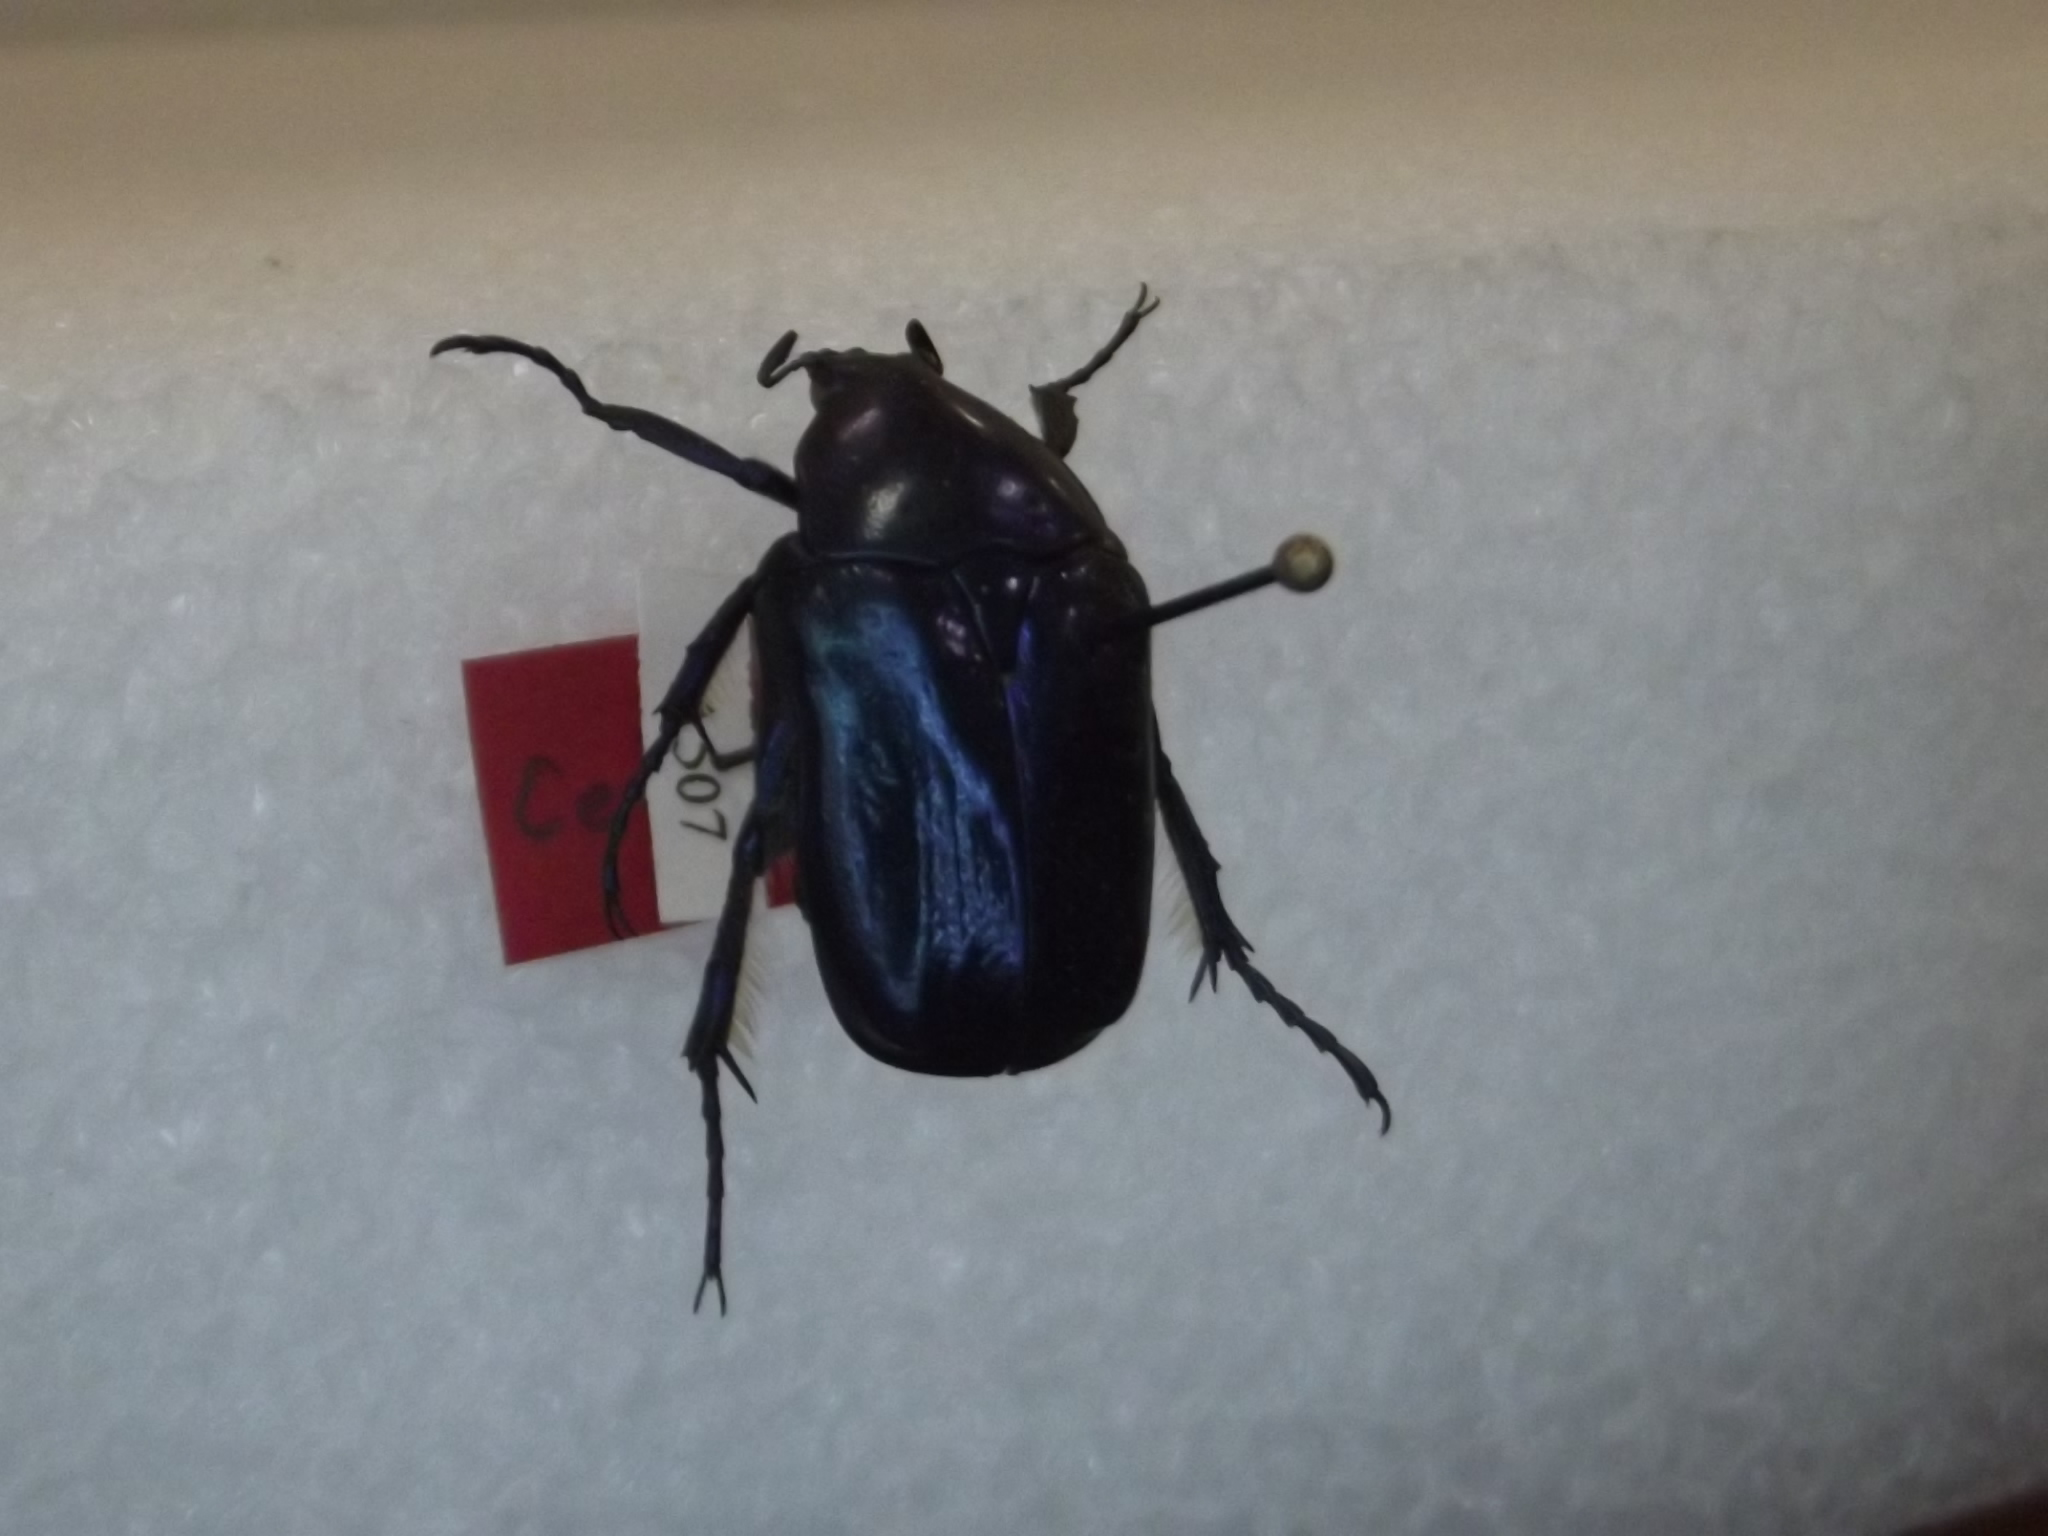Protaetia_besucheti: (414, 260, 1442, 1341)
